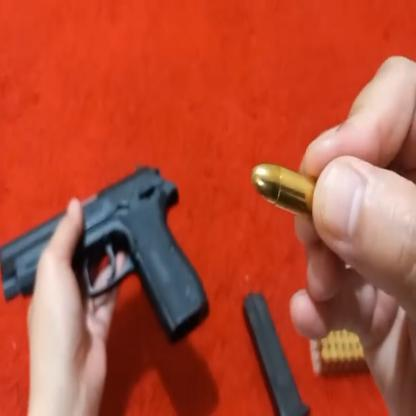handgun: (0, 157, 219, 344)
